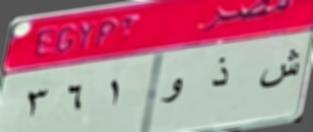1: (105, 77, 125, 113)
3: (22, 86, 50, 120)
6: (62, 82, 88, 117)
sheen: (257, 49, 301, 94)
waw: (158, 74, 188, 110)
zaal: (208, 57, 232, 95)
